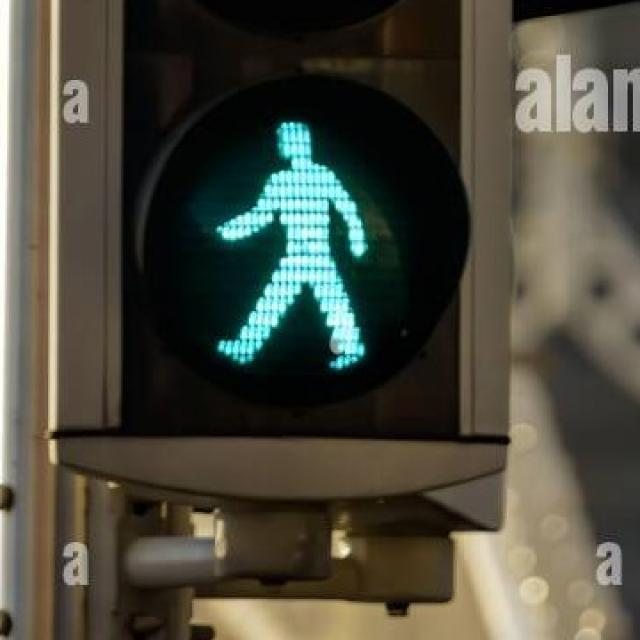geen-crossing: (200, 101, 390, 370)
